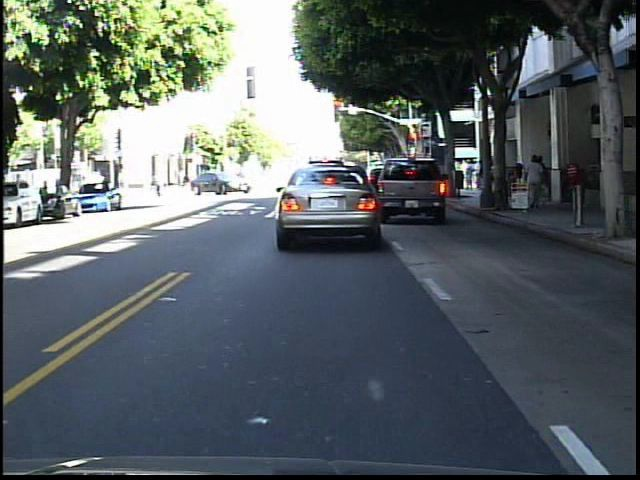person: (524, 153, 545, 209), (538, 154, 552, 208), (53, 169, 72, 208)
